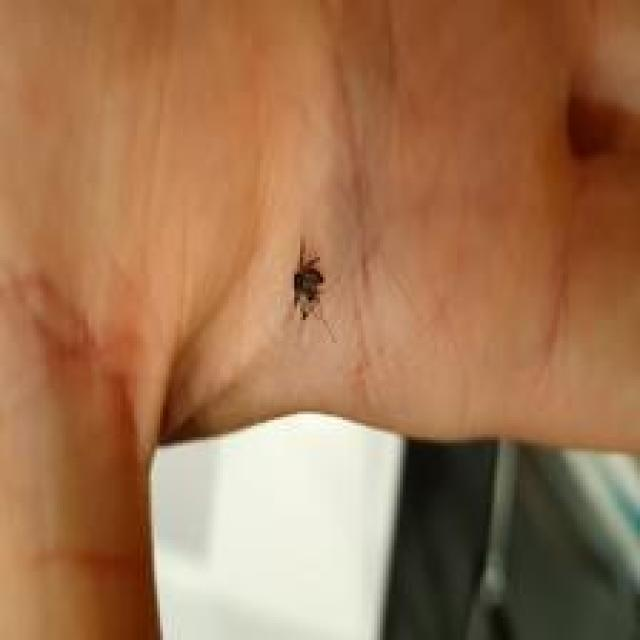Aedes albopictus: (291, 236, 326, 321)
